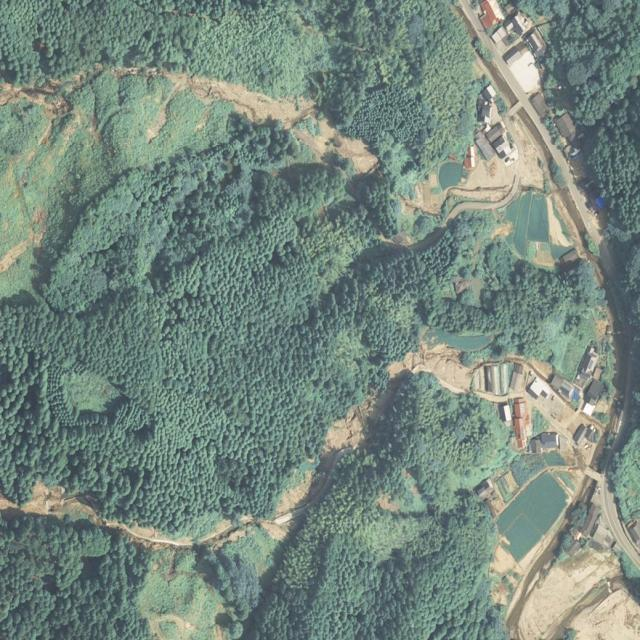landslide: (261, 341, 472, 539), (110, 67, 378, 174), (0, 233, 33, 273), (0, 83, 60, 105)
